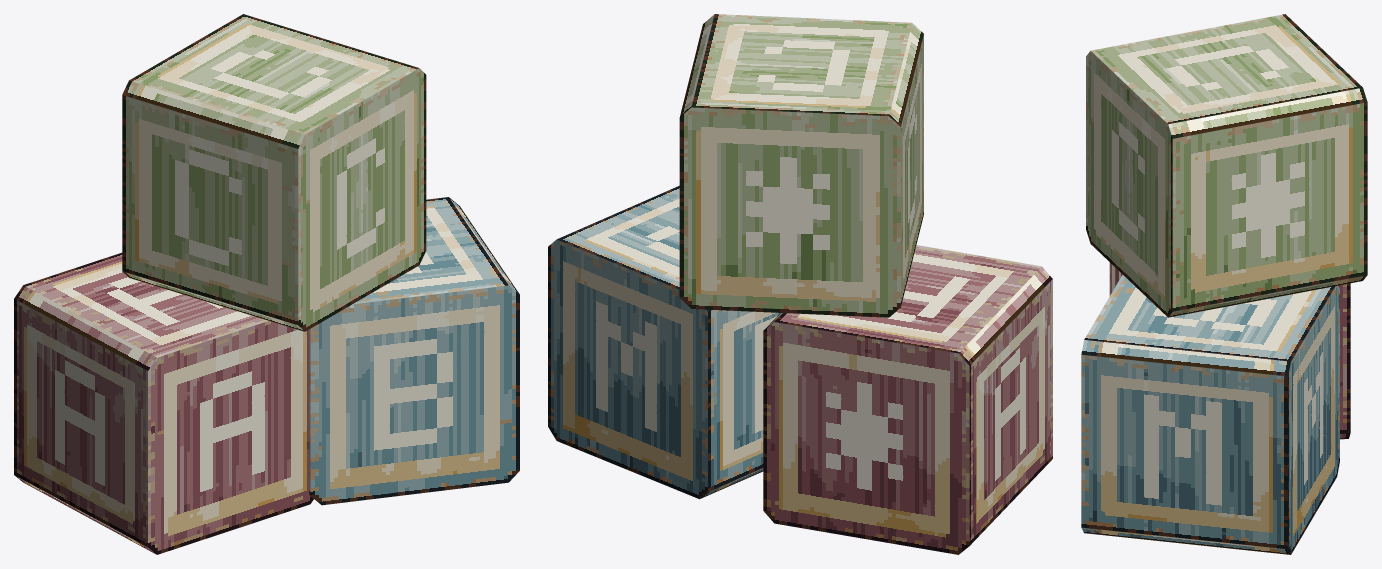
The model's file is blocks.glb.
3 renders of one model, left to right at view 1: azimuth 30°, elevation 25°; view 2: azimuth 150°, elevation 25°; view 3: azimuth 270°, elevation 25°, orthographic. The views are drawn at different scales.
Visible parts, largest first — view 1: block2, block0, block1; view 2: block0, block2, block1; view 3: block2, block1, block0.
Part boxes in pixels (left/top/right/bottom): block2: left=122, top=14, right=426, bottom=331; block0: left=14, top=252, right=313, bottom=554; block1: left=309, top=197, right=519, bottom=505; block0: left=763, top=245, right=1052, bottom=554; block2: left=679, top=14, right=923, bottom=317; block1: left=548, top=185, right=779, bottom=499; block2: left=1086, top=14, right=1367, bottom=317; block1: left=1081, top=274, right=1339, bottom=554; block0: left=1109, top=262, right=1350, bottom=439.
Size of the model in its own units: 0.9392 by 0.825 by 0.5536.
Materials: 1 (1 with a texture image).
